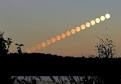moon: (105, 13, 111, 20)
